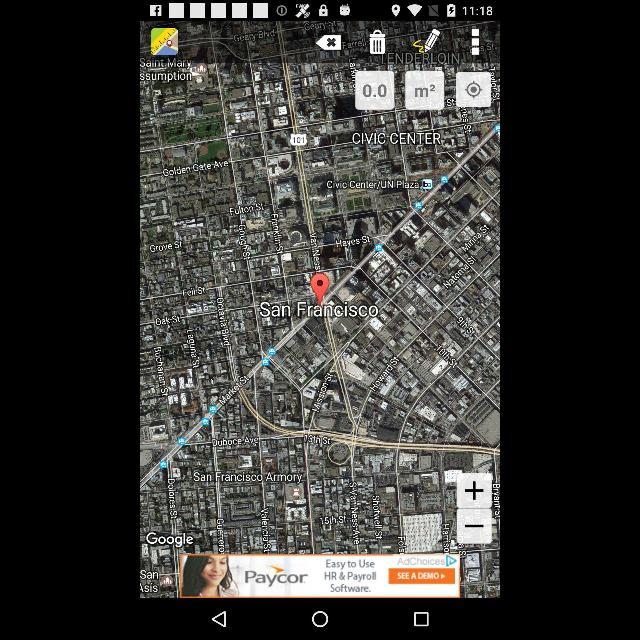icon: (414, 29, 441, 53), (369, 31, 385, 54), (316, 35, 340, 49), (312, 610, 328, 628), (466, 81, 482, 97), (212, 610, 226, 628), (414, 612, 428, 626), (472, 29, 478, 55)
image: (152, 28, 178, 56)
map: (140, 63, 500, 597)
panel: (140, 598, 500, 640)
uppertaskbar: (140, 0, 500, 20)
